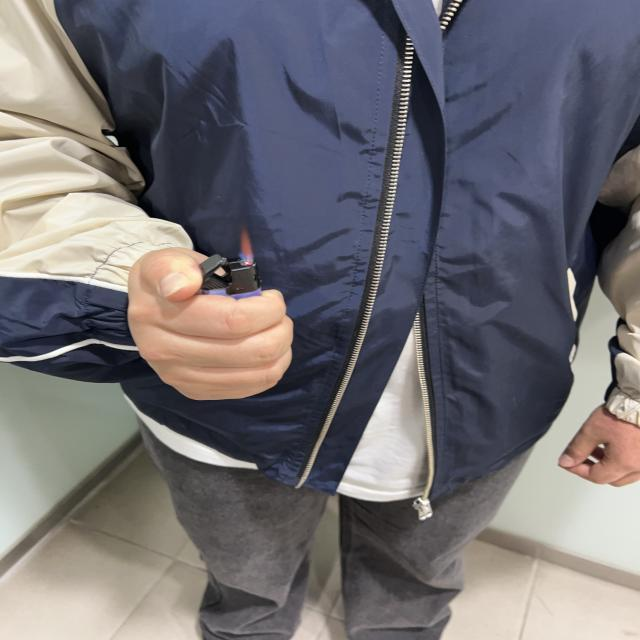fire: (237, 230, 256, 268)
